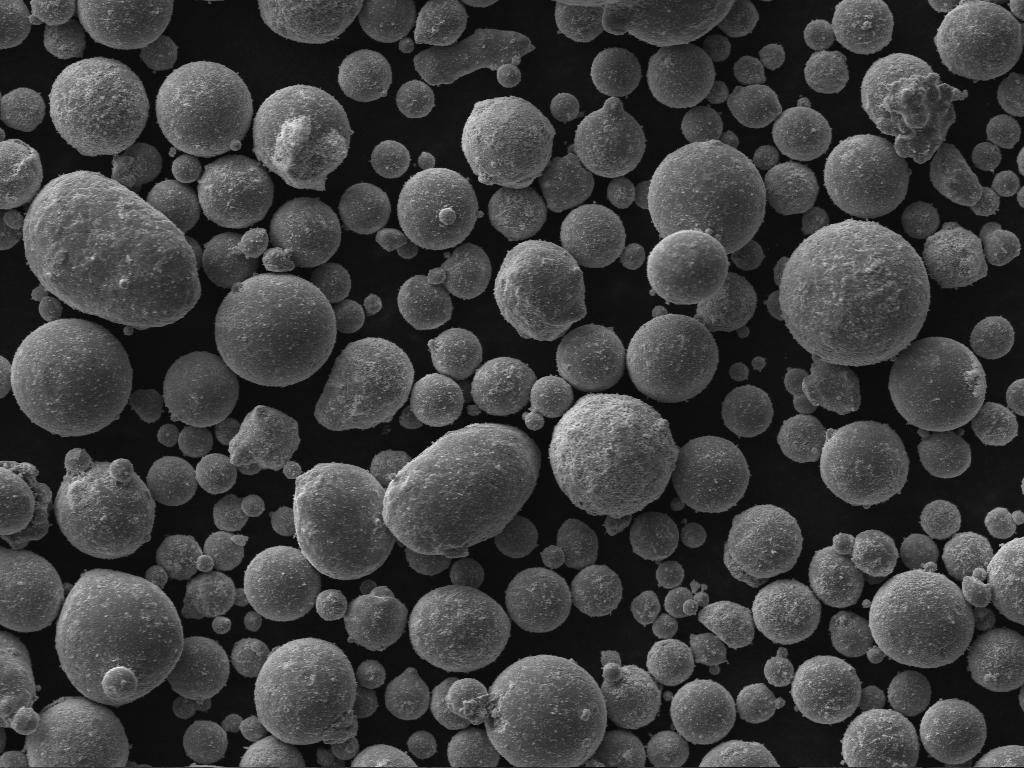Powder: (24, 170, 200, 328), (370, 424, 540, 575), (766, 220, 930, 366), (56, 566, 184, 705), (448, 656, 608, 765), (12, 294, 132, 436), (216, 264, 350, 386), (550, 394, 678, 517), (636, 140, 766, 253), (270, 462, 394, 580), (408, 558, 510, 673), (862, 54, 966, 163), (54, 448, 156, 558), (646, 230, 756, 331), (254, 638, 358, 744), (862, 570, 974, 668), (252, 84, 352, 190), (50, 58, 150, 155), (888, 336, 986, 432), (0, 696, 130, 767), (314, 338, 414, 430), (494, 240, 586, 340), (156, 62, 252, 157), (626, 306, 718, 402), (462, 96, 554, 187), (398, 152, 478, 250), (820, 420, 910, 506), (602, 0, 758, 47), (824, 134, 910, 218), (414, 28, 534, 88), (934, 0, 1024, 80), (78, 0, 178, 69), (724, 504, 802, 588), (234, 548, 322, 621), (670, 436, 750, 512), (574, 96, 646, 178), (262, 198, 340, 272), (560, 204, 646, 269), (164, 352, 238, 427), (198, 154, 274, 227), (0, 546, 64, 632), (646, 44, 730, 108), (962, 538, 1024, 623), (168, 636, 230, 719), (930, 144, 1000, 215), (600, 650, 662, 729), (228, 406, 300, 474), (146, 454, 238, 506), (804, 0, 894, 53), (792, 656, 862, 724), (556, 324, 626, 391), (258, 0, 363, 44), (0, 462, 52, 550), (344, 580, 408, 650), (842, 710, 920, 767), (920, 698, 986, 764), (922, 222, 988, 288), (754, 580, 822, 644), (784, 360, 860, 414), (0, 632, 40, 734), (506, 568, 570, 631), (672, 680, 734, 744), (202, 228, 268, 288), (772, 98, 832, 162), (472, 356, 536, 415), (398, 374, 464, 429), (968, 628, 1024, 692), (428, 244, 492, 299), (810, 546, 864, 608), (240, 716, 304, 768), (538, 154, 594, 211), (832, 530, 898, 578), (488, 188, 546, 242), (398, 274, 452, 330), (540, 518, 598, 570), (146, 180, 202, 232), (0, 140, 42, 209), (764, 162, 818, 215), (338, 50, 392, 102), (522, 376, 574, 430), (570, 564, 622, 616), (428, 330, 482, 380), (698, 600, 754, 648), (722, 386, 774, 437), (554, 0, 616, 42), (590, 48, 642, 97), (917, 430, 970, 478), (340, 184, 390, 234), (942, 532, 994, 580), (156, 536, 214, 579), (182, 572, 236, 618), (112, 142, 162, 191), (358, 0, 416, 42), (414, 0, 466, 46), (630, 512, 678, 561), (384, 668, 430, 719), (728, 84, 782, 127), (778, 414, 826, 462), (446, 726, 500, 767), (646, 640, 694, 686), (828, 610, 874, 658), (430, 678, 470, 730), (700, 740, 778, 766), (888, 670, 932, 716), (0, 88, 46, 131), (972, 402, 1018, 445), (212, 494, 264, 532), (736, 684, 786, 723), (184, 720, 228, 764), (970, 316, 1014, 360), (804, 50, 848, 94), (592, 730, 644, 767), (494, 516, 538, 558), (978, 222, 1020, 266), (204, 530, 248, 571), (44, 20, 86, 59), (230, 638, 270, 678), (646, 730, 688, 768), (920, 500, 960, 539), (352, 744, 416, 768), (682, 106, 724, 142), (0, 0, 30, 49), (396, 80, 434, 118), (372, 140, 410, 178), (900, 534, 940, 570), (902, 202, 940, 239), (376, 228, 418, 259), (984, 508, 1024, 540), (691, 632, 726, 666), (764, 648, 794, 687), (998, 72, 1024, 117), (986, 114, 1020, 148), (30, 0, 75, 25), (130, 390, 164, 422), (178, 426, 212, 458), (630, 590, 660, 626), (974, 747, 1024, 768), (334, 300, 364, 334), (316, 590, 348, 621), (606, 176, 636, 209), (664, 588, 698, 617), (732, 240, 764, 270), (0, 210, 24, 249), (734, 56, 766, 85), (972, 142, 1002, 172), (550, 92, 580, 122), (172, 154, 202, 183), (408, 730, 438, 759), (356, 660, 386, 689), (352, 686, 378, 718), (656, 560, 684, 589), (802, 206, 830, 235), (702, 34, 730, 62), (992, 170, 1020, 197), (652, 612, 678, 640), (858, 686, 886, 712), (214, 418, 240, 445), (680, 522, 706, 548), (752, 146, 780, 170), (1006, 378, 1024, 415), (758, 44, 784, 69), (330, 738, 360, 759), (316, 746, 344, 768), (156, 422, 180, 447), (974, 606, 996, 632), (690, 580, 710, 607), (0, 356, 12, 397), (606, 516, 631, 535), (362, 294, 382, 316), (222, 714, 242, 733), (730, 362, 750, 381), (282, 460, 302, 479), (244, 610, 262, 631), (212, 616, 232, 634), (721, 130, 740, 147), (1009, 0, 1024, 21), (398, 38, 414, 54), (462, 1, 498, 8), (1016, 146, 1024, 175), (752, 356, 766, 371), (1016, 186, 1024, 207), (662, 690, 674, 701)
